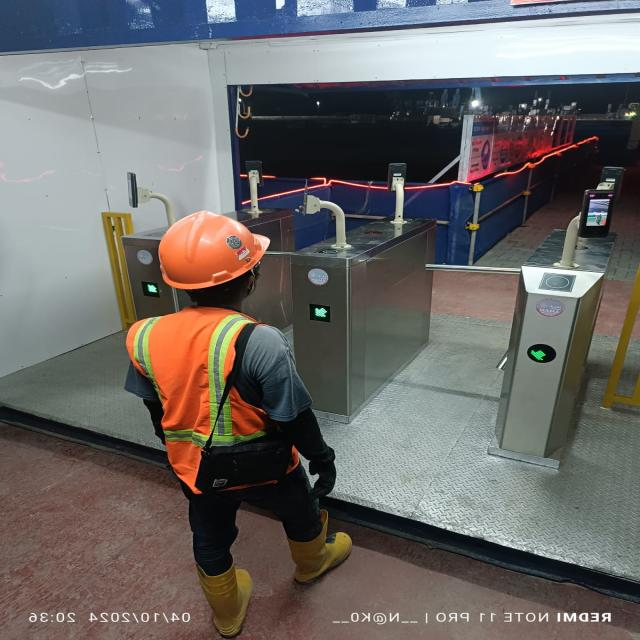gloves: (297, 458, 350, 498)
helmet: (144, 214, 272, 290)
safety_vest: (146, 314, 252, 486)
